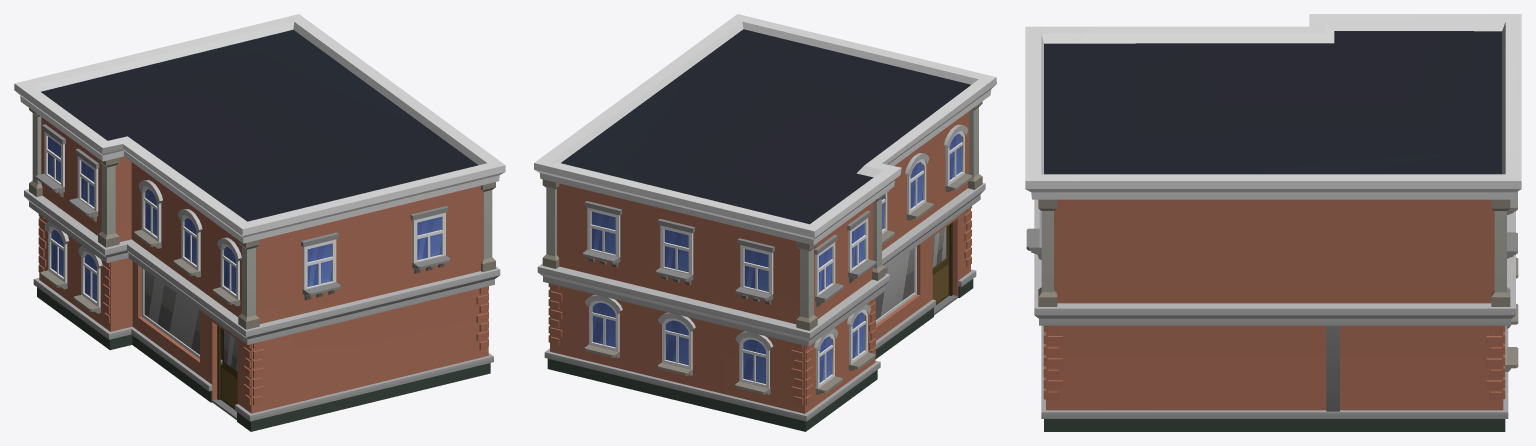
File: Building_1_2_R.fbx
The picture shows the model from 3 angles, left to right: view 1: azimuth 30°, elevation 25°; view 2: azimuth 150°, elevation 25°; view 3: azimuth 270°, elevation 25°; orthographic projection. The views are drawn at different scales.
Visible parts, largest first — view 1: Building_1_2_R; view 2: Building_1_2_R; view 3: Building_1_2_R.
Boxes of the visible parts, x1,y1,x2,y2 form: Building_1_2_R: [14, 14, 505, 431]; Building_1_2_R: [534, 14, 996, 431]; Building_1_2_R: [1025, 14, 1521, 431].
Bounding box in the file's own units: 841 × 600 × 1057.
